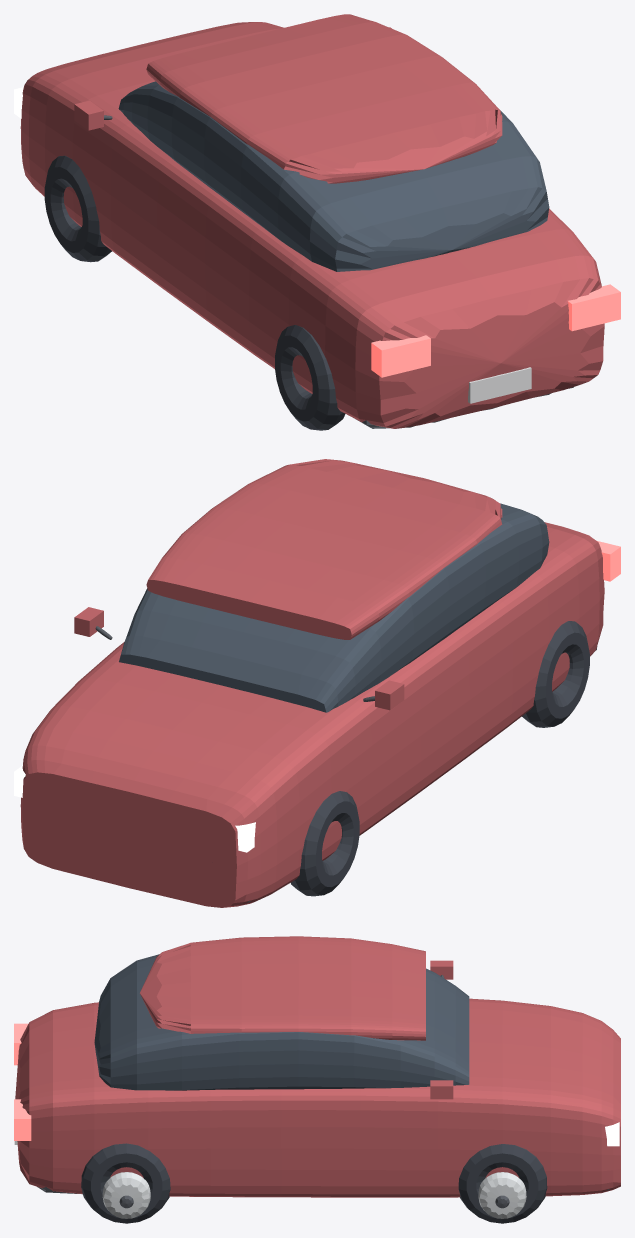
The model's file is car.glb.
3 renders of one model, top to bottom at view 1: azimuth 30°, elevation 25°; view 2: azimuth 150°, elevation 25°; view 3: azimuth 270°, elevation 25°, orthographic. The views are drawn at different scales.
Visible parts, largest first — view 1: Hatch, WheelRL, WheelFL; view 2: Hatch, WheelFL, WheelRL; view 3: Hatch, WheelRR, WheelFR.
Part boxes in pixels (x1,y1,x2,y2): Hatch: (14, 14, 620, 428); WheelRL: (275, 325, 345, 430); WheelFL: (44, 155, 111, 262); Hatch: (14, 459, 620, 907); WheelFL: (291, 791, 359, 896); WheelRL: (522, 621, 589, 727); Hatch: (14, 936, 620, 1197); WheelRR: (81, 1143, 170, 1223); WheelFR: (458, 1144, 547, 1223).
Size of the model in its own units: 2.06 by 1.49 by 4.2.
